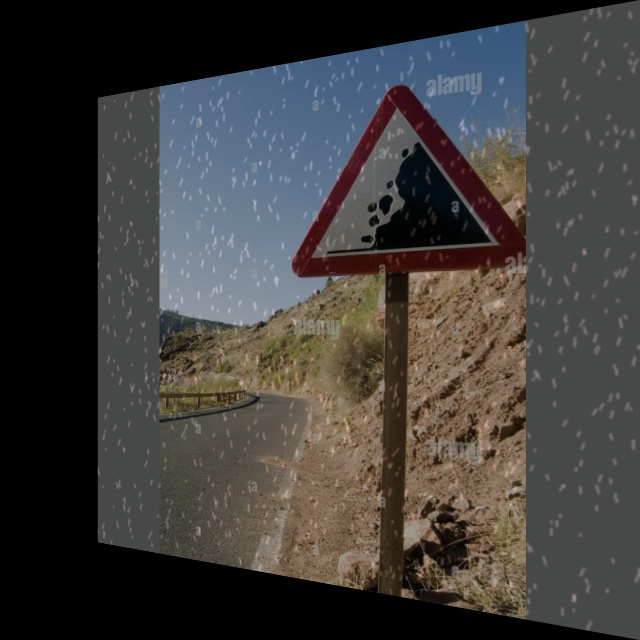Falling_Rocks: (315, 72, 512, 265)
